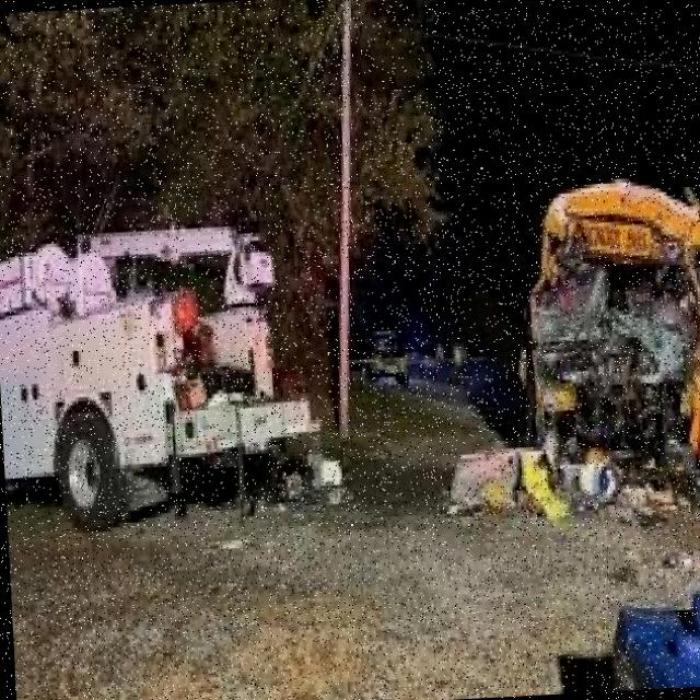Accident: (500, 120, 700, 528)
